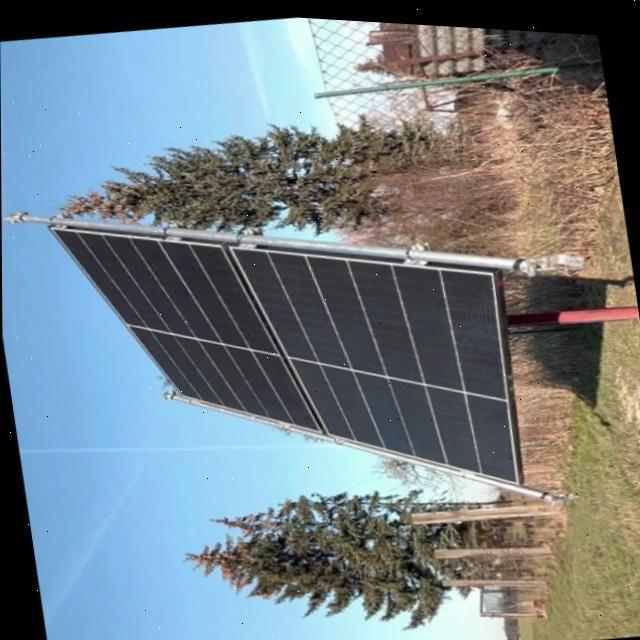Normal Solar Panel: (50, 168, 520, 539)
